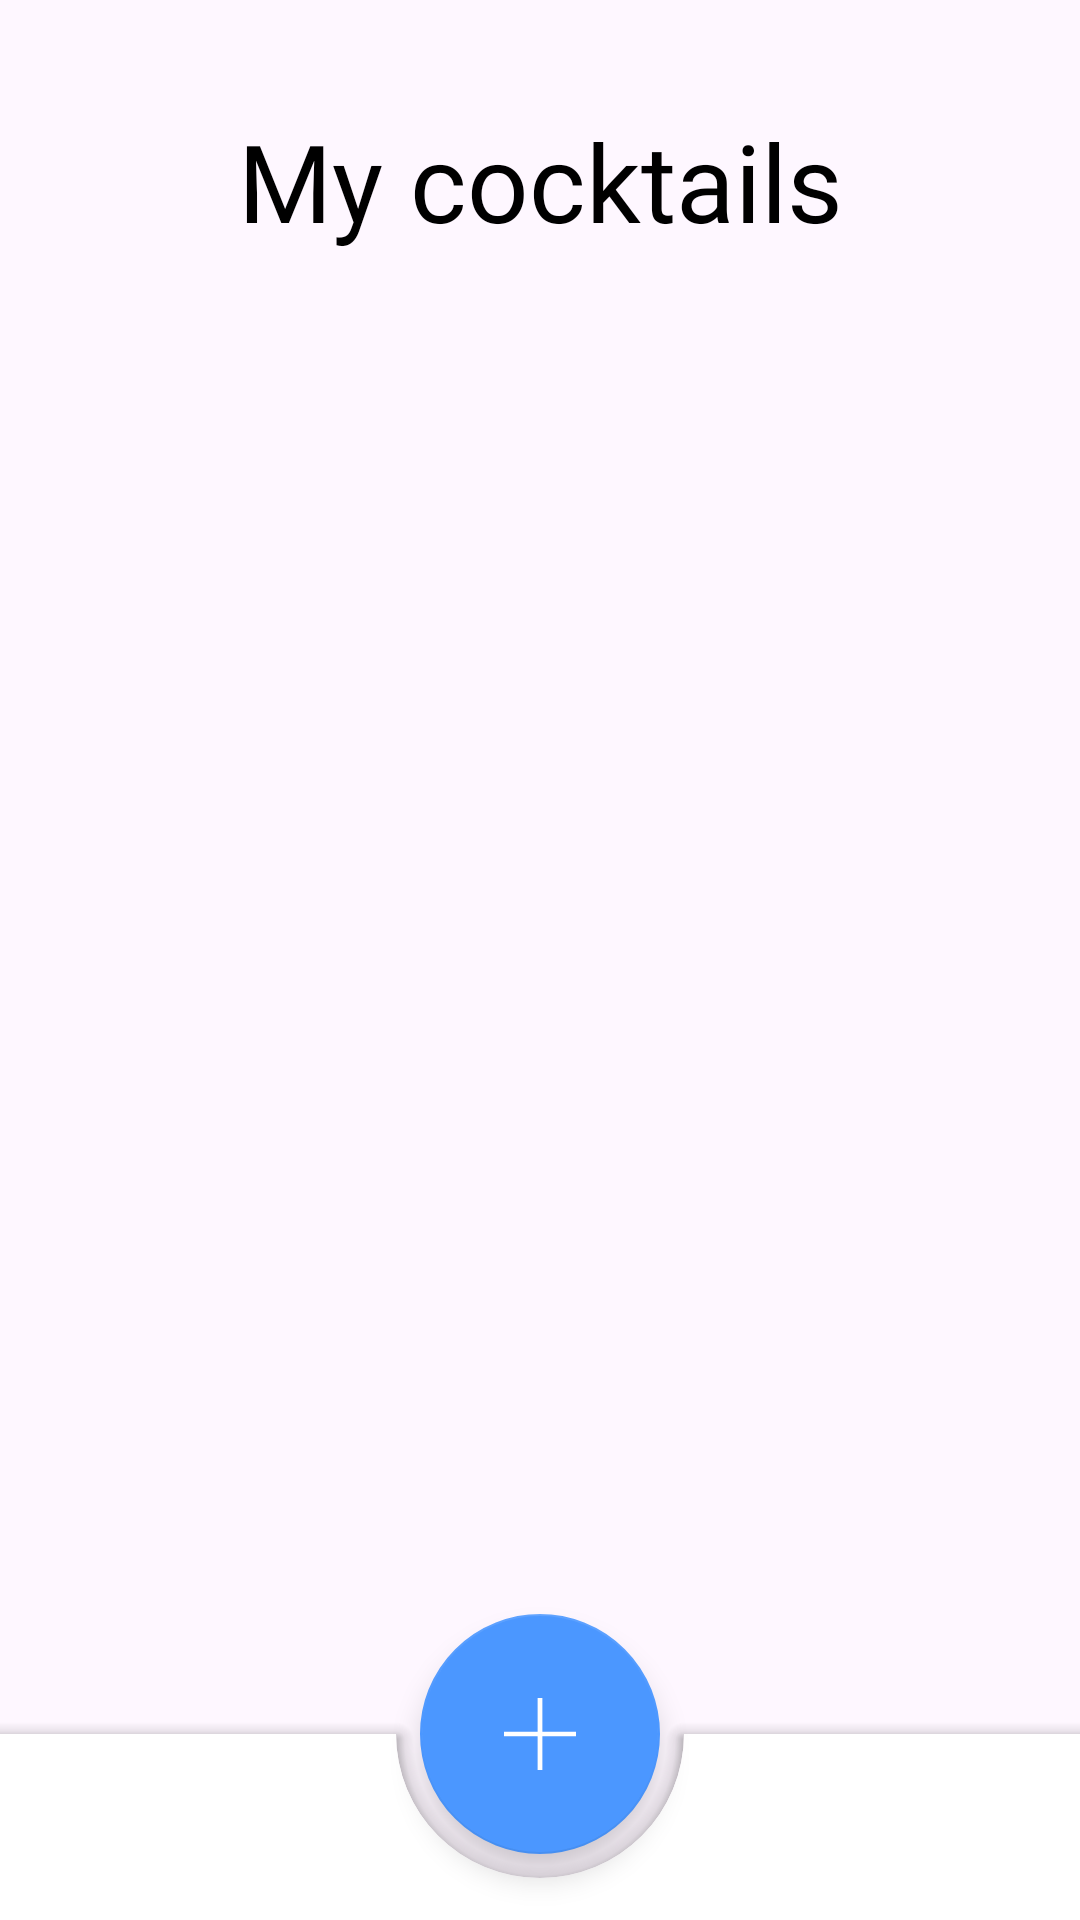

Locate icon controls on the screen. Image size 1080×1920, boxes as (x1, y1, x2, y2).
plus: (420, 1614, 660, 1854)
